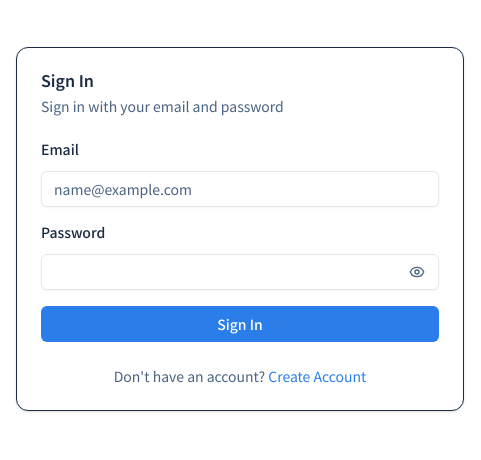
SignInPage › should show error message on failed sign-in
This screenshot has width=481, height=460.
Step 1. Type "user@example.com" into the field labelled "Email" → [240, 189], box [41,171,439,207]
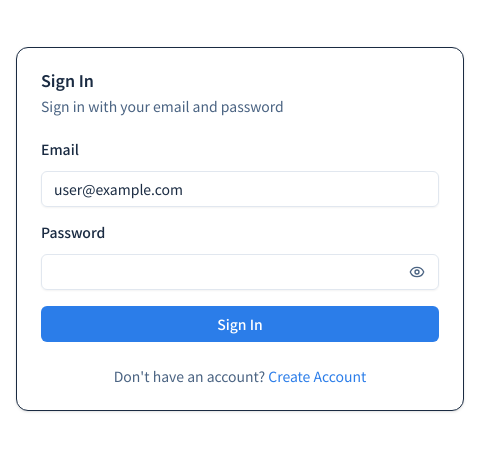
Step 2. Type "password123" into the password field labelled "Password" → [222, 272], box [42,254,401,290]
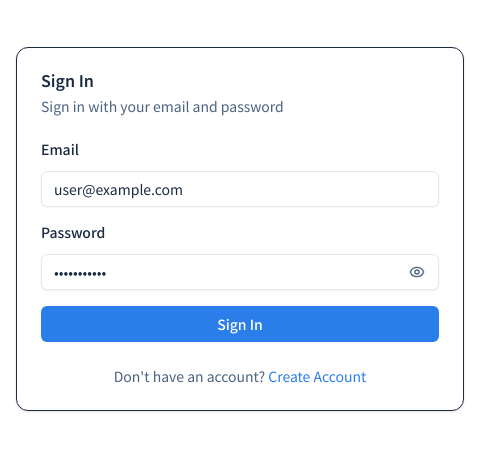
Step 3. Click the button "Sign In" → [240, 324], box [41,306,439,342]
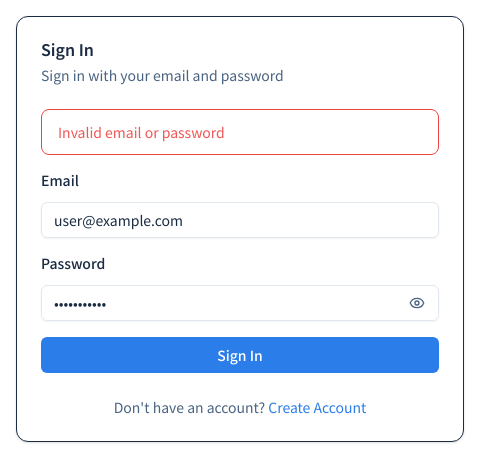
expect the text "Invalid email or password" is shown: met, box [58,122,225,142]
